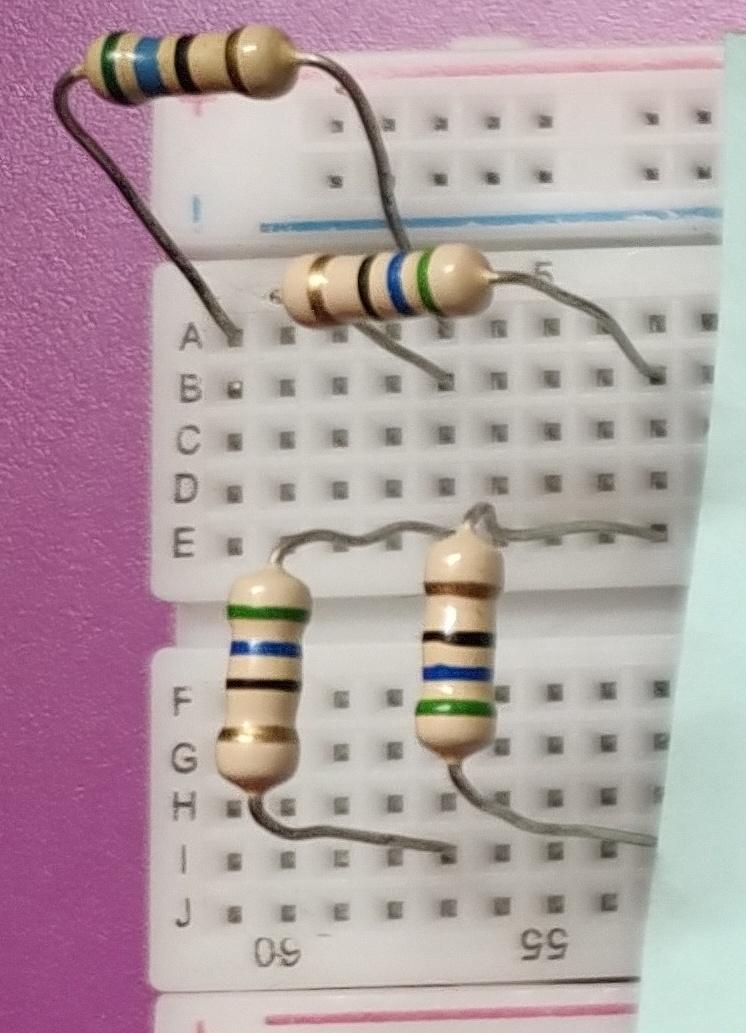resistor: (407, 511, 521, 765), (69, 13, 327, 125), (203, 553, 310, 810), (261, 235, 511, 336)
